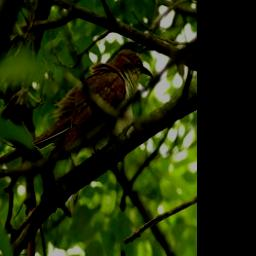Cuckoo: (0, 46, 154, 171)
